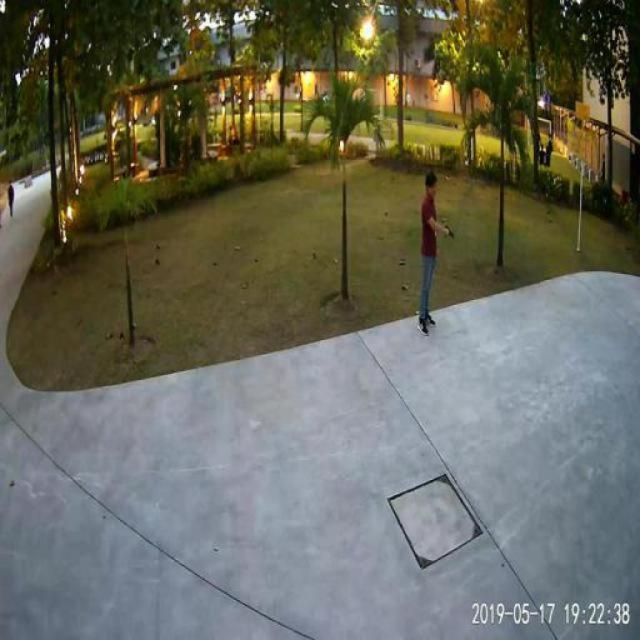pistol: (442, 222, 452, 239)
